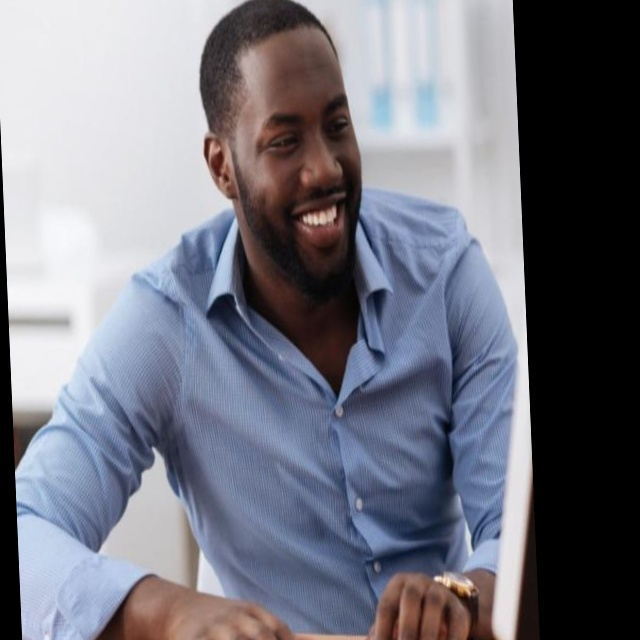Sin_Casco_Mascarrilla: (196, 0, 371, 290)
